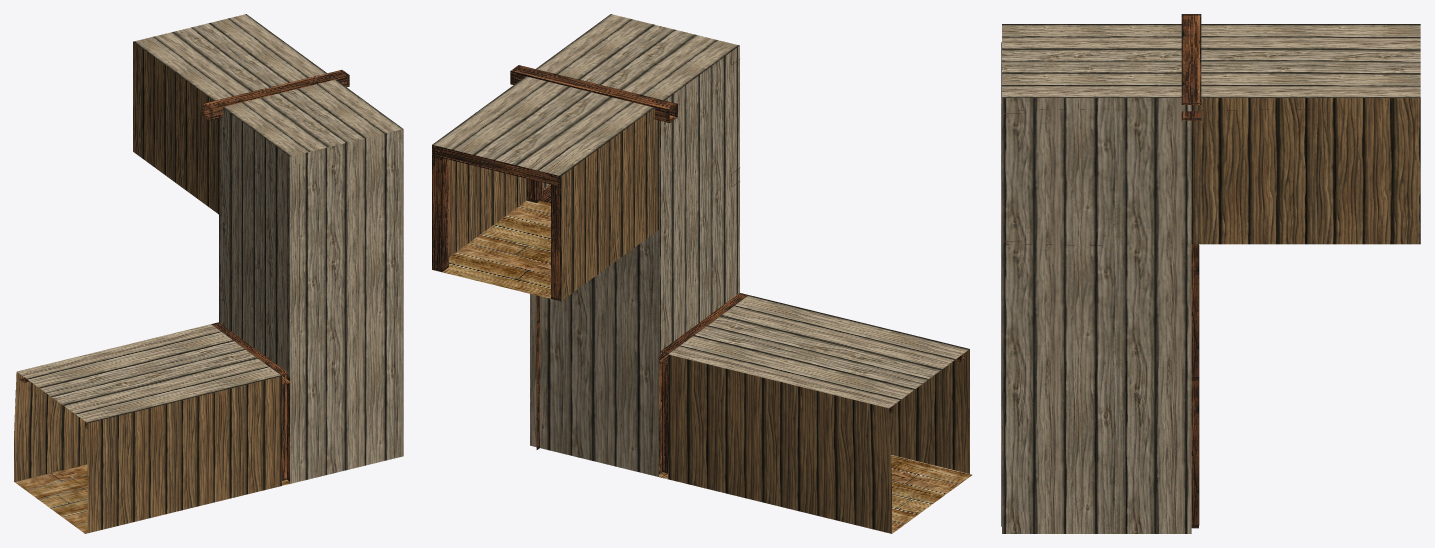
Rendered from LAKETOWN_WAREHOUSE2_PS_WH2_CELLARSHAFT998__GX.obj.
3 renders of one model, left to right at view 1: azimuth 30°, elevation 25°; view 2: azimuth 150°, elevation 25°; view 3: azimuth 270°, elevation 25°, orthographic. The views are drawn at different scales.
Parts seen in each view (by area): view 1: larShaft998__GX; view 2: larShaft998__GX; view 3: larShaft998__GX.
Boxes of the visible parts, x1,y1,x2,y2 form: larShaft998__GX: (14, 14, 403, 533); larShaft998__GX: (432, 14, 972, 533); larShaft998__GX: (1001, 14, 1420, 533).
Size of the model in its own units: 643 by 608 by 528.
